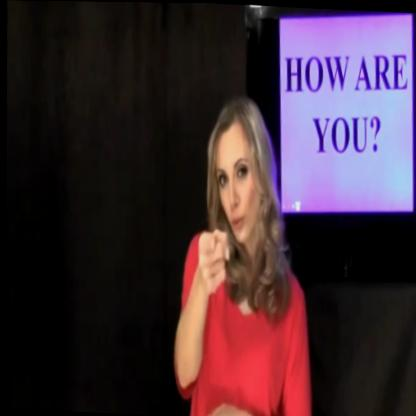HowAreYou: (181, 222, 286, 416)
